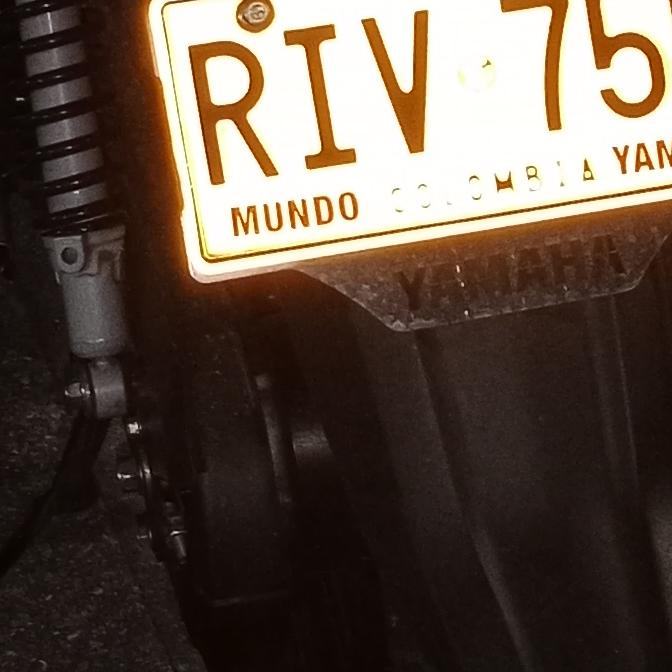plates: (135, 0, 672, 294)
